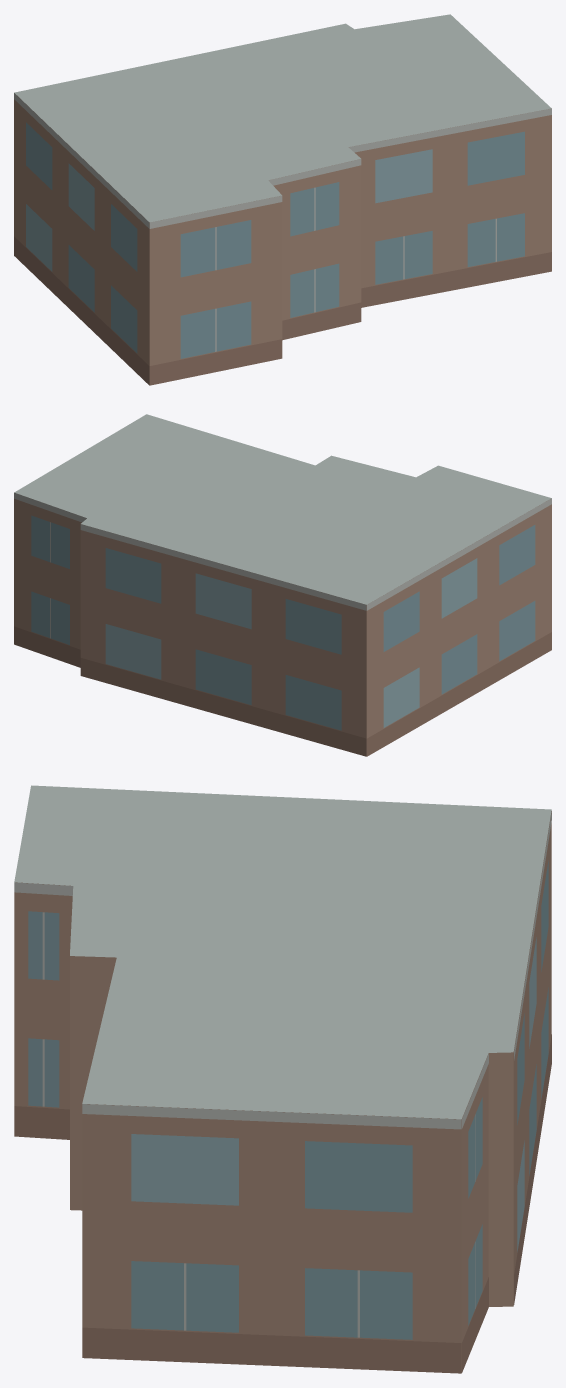
Rendered from survey-upis-33039208.glb.
3 renders of one model, top to bottom at view 1: azimuth 30°, elevation 25°; view 2: azimuth 150°, elevation 25°; view 3: azimuth 270°, elevation 25°, orthographic. The views are drawn at different scales.
Parts seen in each view (by area): view 1: survey-upis-33039208.tmp; view 2: survey-upis-33039208.tmp; view 3: survey-upis-33039208.tmp.
Boxes of the visible parts, x1,y1,x2,y2 form: survey-upis-33039208.tmp: [14, 14, 551, 385]; survey-upis-33039208.tmp: [14, 414, 551, 756]; survey-upis-33039208.tmp: [14, 785, 551, 1373].
Size of the model in its own units: 17.2 by 6.1 by 11.7.
